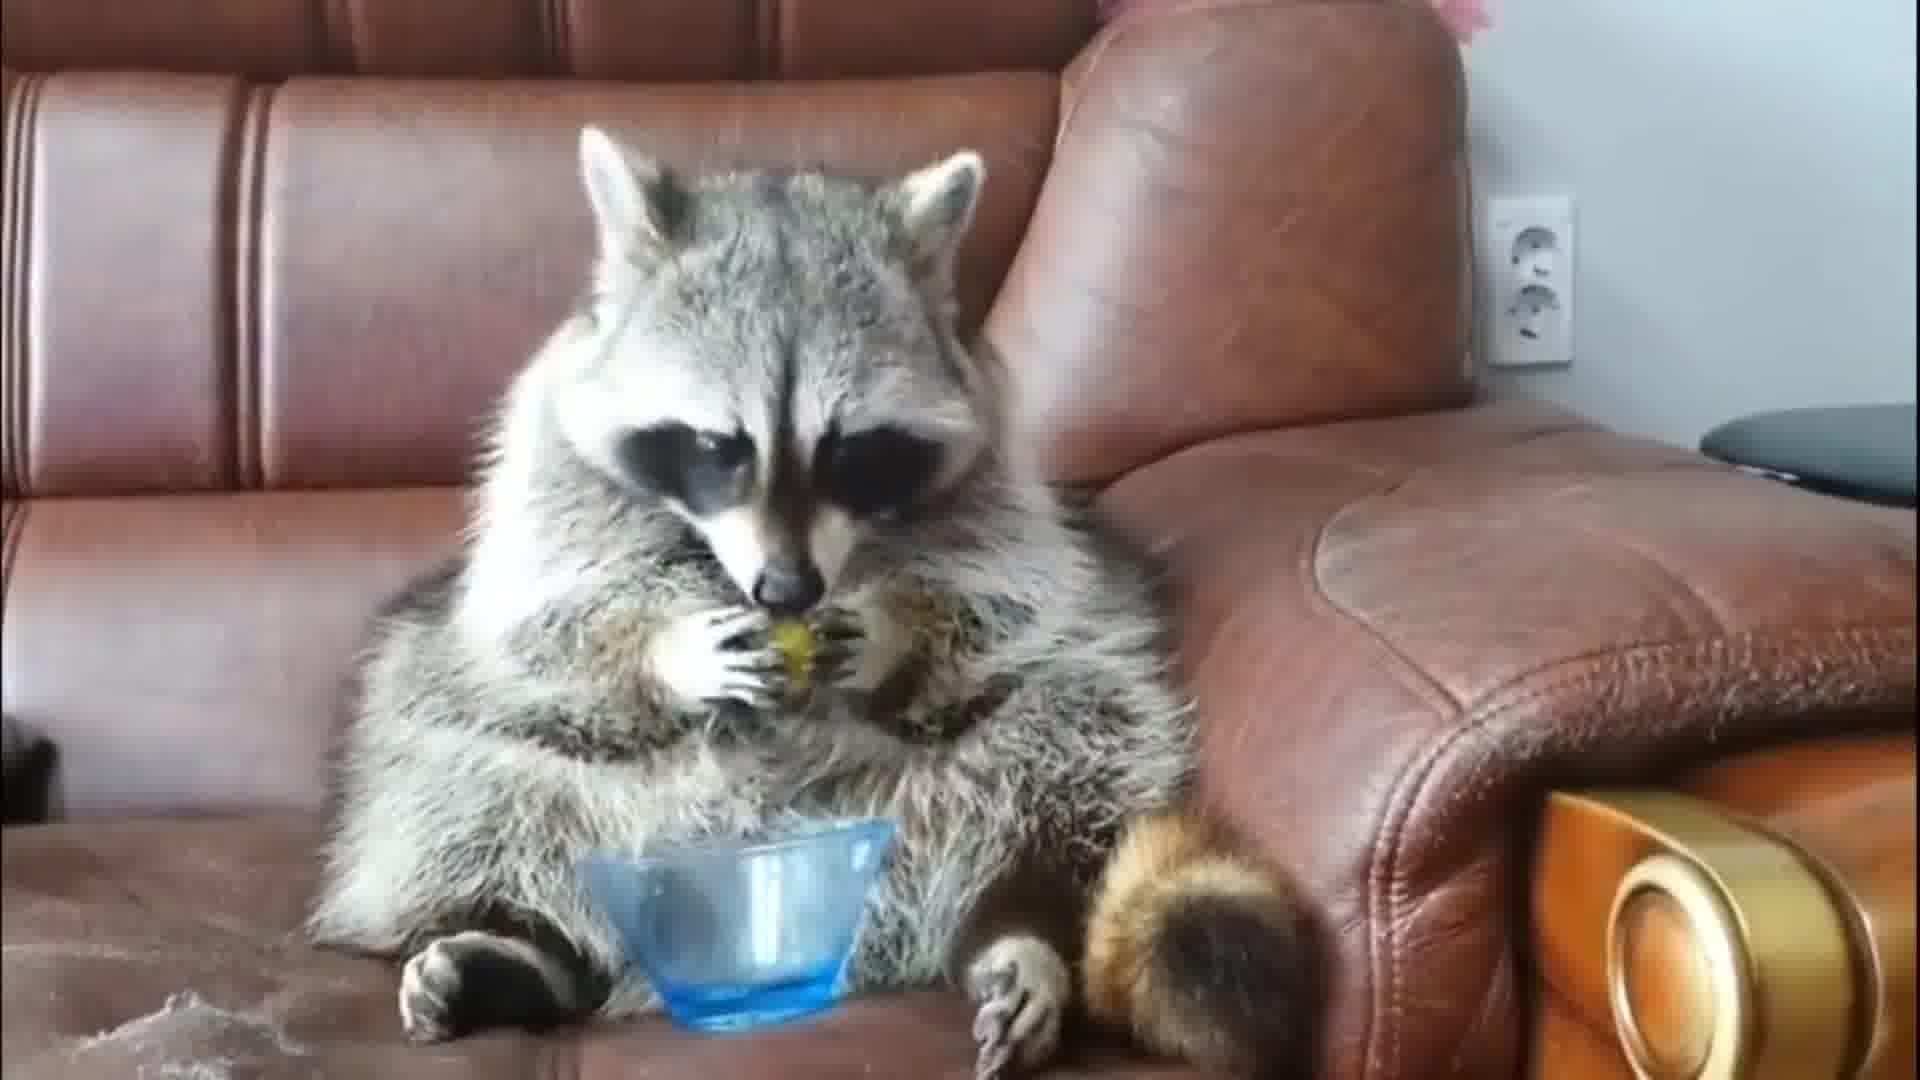raccoon: (321, 112, 1327, 1080)
